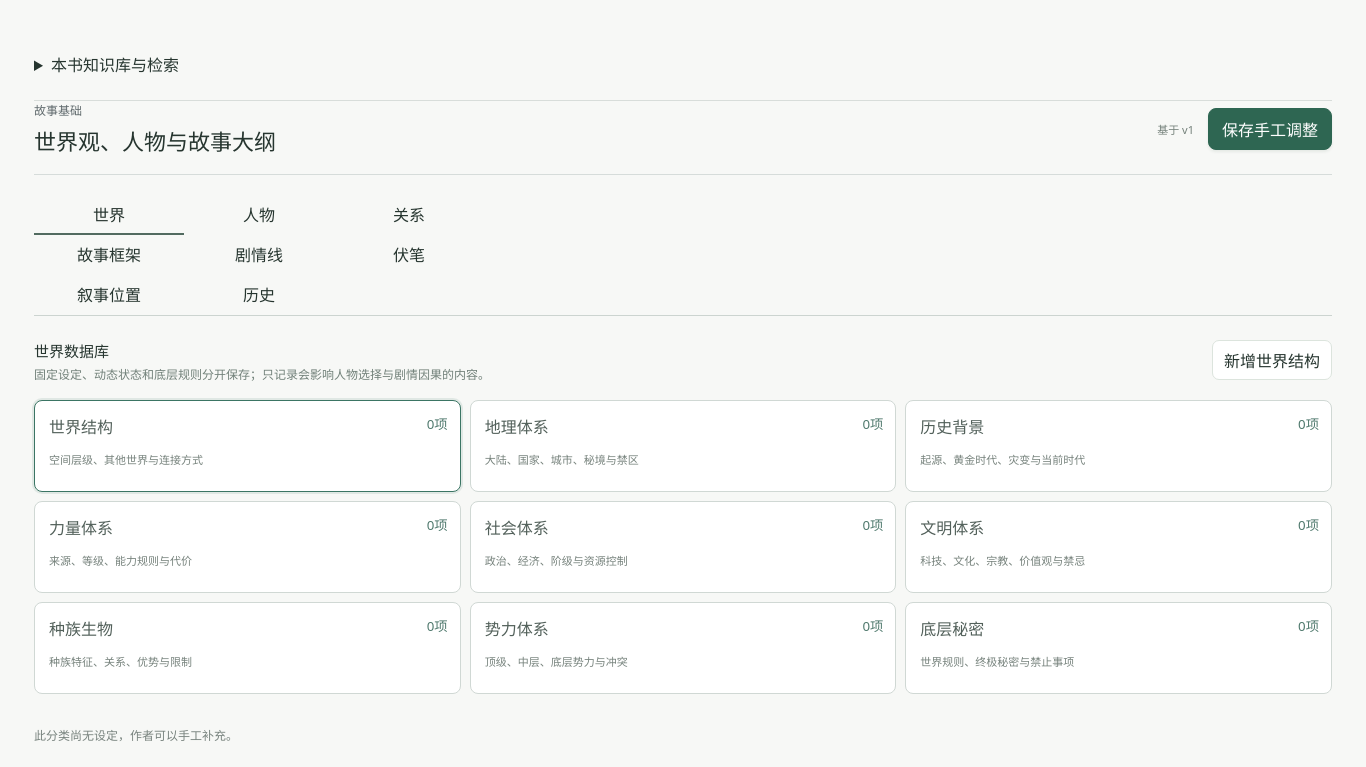
Test: BlueprintWorkspace manual editing › reports a confirmed save while project refresh remains pending
Check: the heading "世界数据库" is shown, box [34,341,109,361]
Click the button "保存手工调整".
click(1270, 128)  # box [1208,108,1332,150]
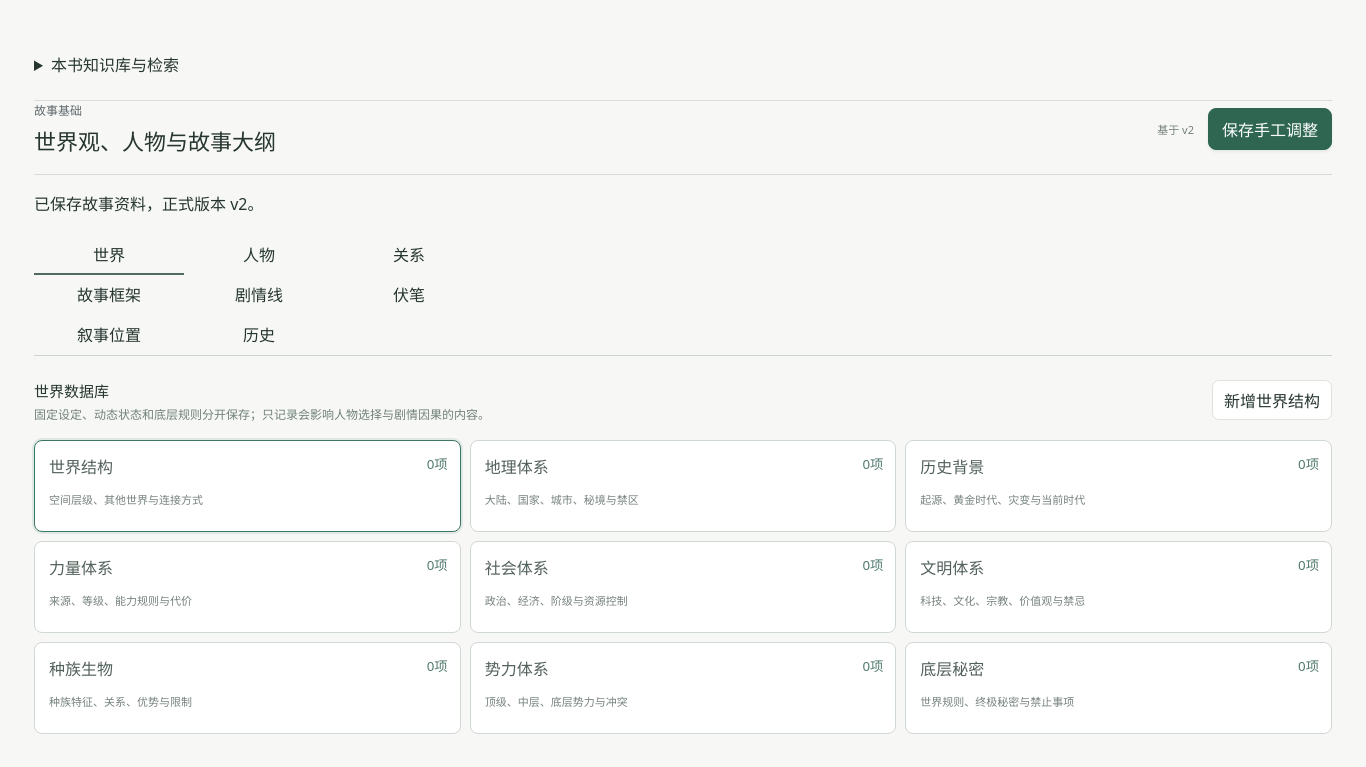
Check: the text "已保存故事资料，正式版本 v2。" is shown, box [34,193,264,215]
